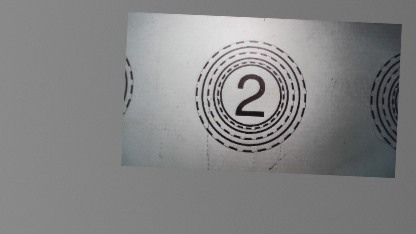2r: (192, 38, 308, 155)
